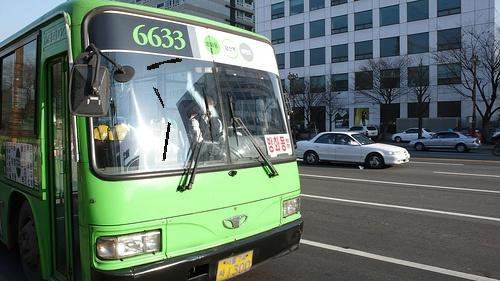tampered: (148, 59, 182, 161)
